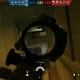Character: (38, 41, 42, 44)
Friend_label: (76, 35, 80, 37)
Head: (38, 42, 40, 43)
